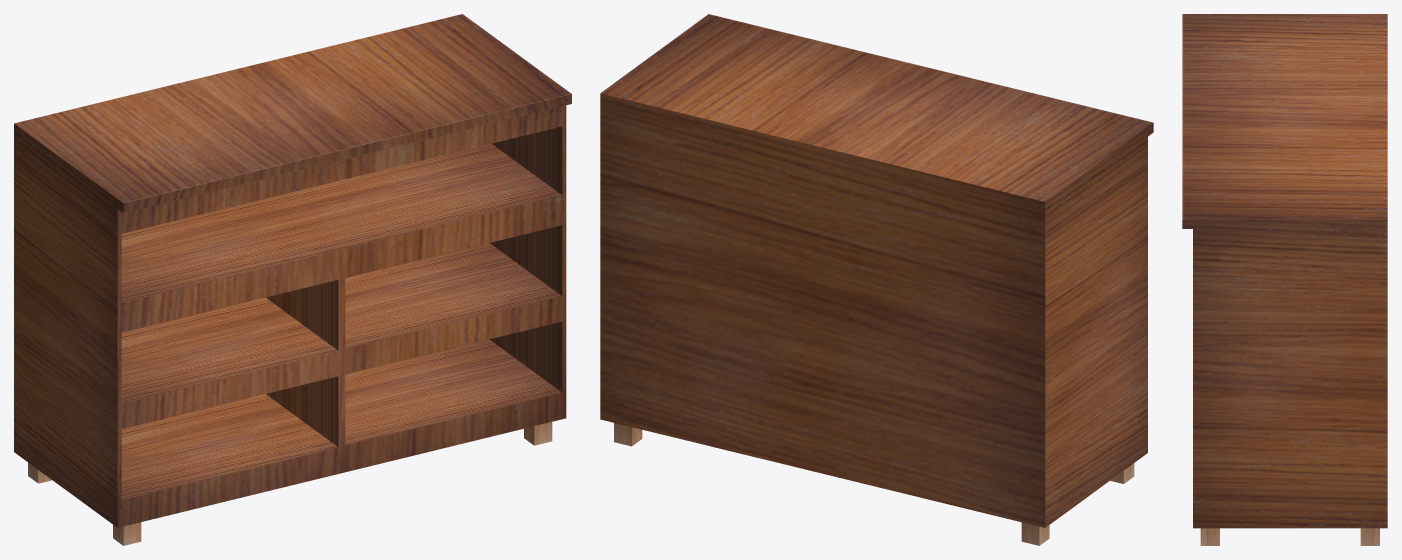
Rendered from chest_01.fbx.
3 renders of one model, left to right at view 1: azimuth 30°, elevation 25°; view 2: azimuth 150°, elevation 25°; view 3: azimuth 270°, elevation 25°, orthographic. The views are drawn at different scales.
Visible parts, largest first — view 1: chest_01; view 2: chest_01; view 3: chest_01.
Boxes of the visible parts, x1=… form: chest_01: x1=14, y1=14, x2=571, y2=545; chest_01: x1=600, y1=14, x2=1153, y2=545; chest_01: x1=1182, y1=14, x2=1387, y2=545.
Size of the model in its own units: 39.37 by 29.53 by 16.62.
